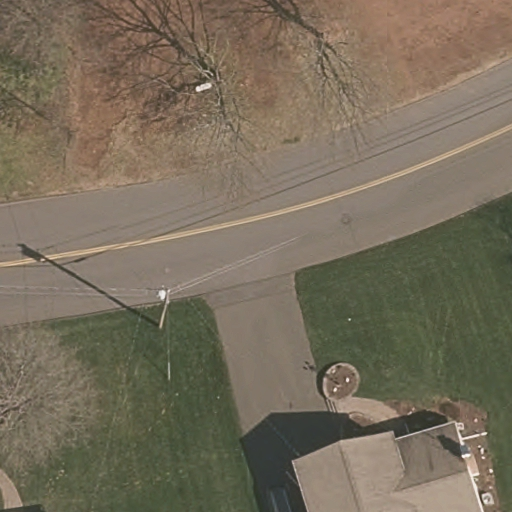DT: (151, 285, 176, 318)
